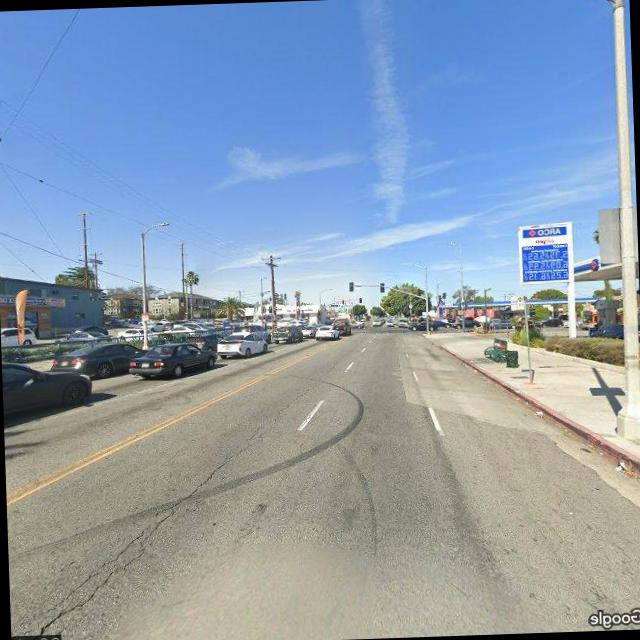pothole: (30, 431, 275, 631)
